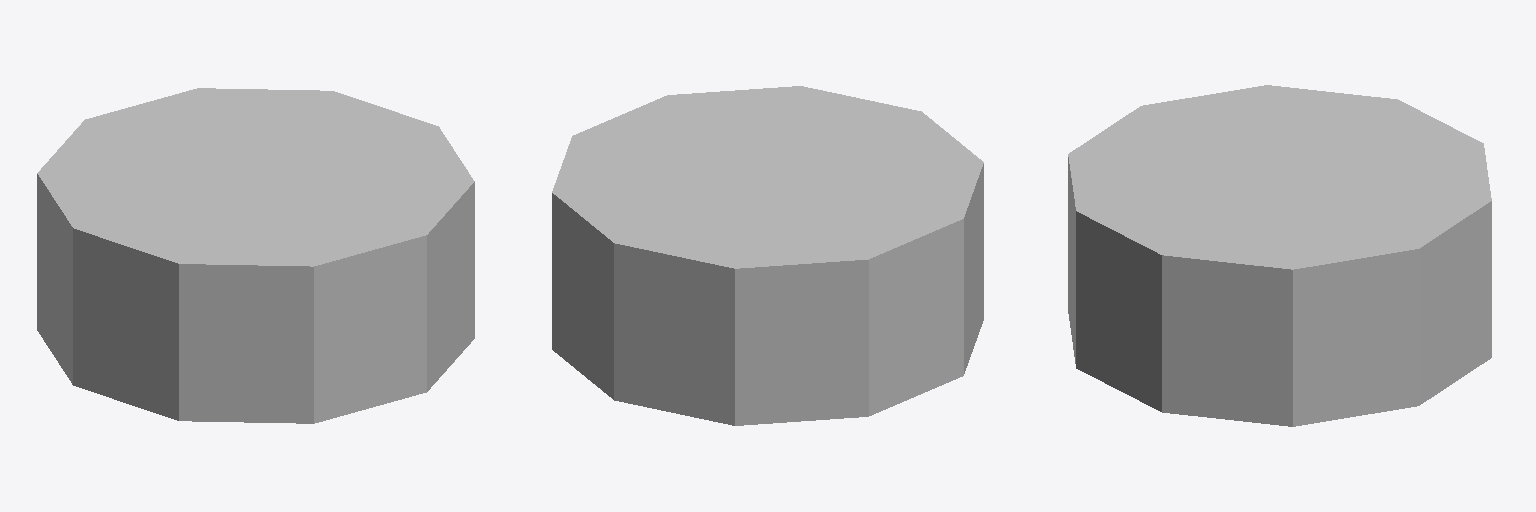
File: Pillar_Prop_3.obj
3 views of the same model, side by side, from view 1: azimuth 30°, elevation 25°; view 2: azimuth 150°, elevation 25°; view 3: azimuth 270°, elevation 25° (orthographic).
Visible parts, largest first — view 1: Props_23 Props; view 2: Props_23 Props; view 3: Props_23 Props.
Part boxes in pixels (x1,y1,x2,y2): Props_23 Props: (37, 88, 474, 423); Props_23 Props: (552, 86, 983, 425); Props_23 Props: (1068, 85, 1491, 426).
Bounding box in the file's own units: 2.52 × 1 × 2.45.